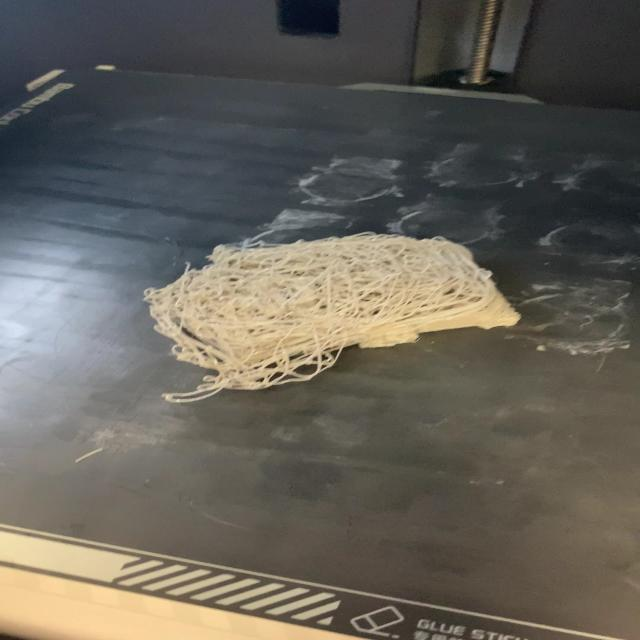spaghetti: (139, 229, 524, 405)
